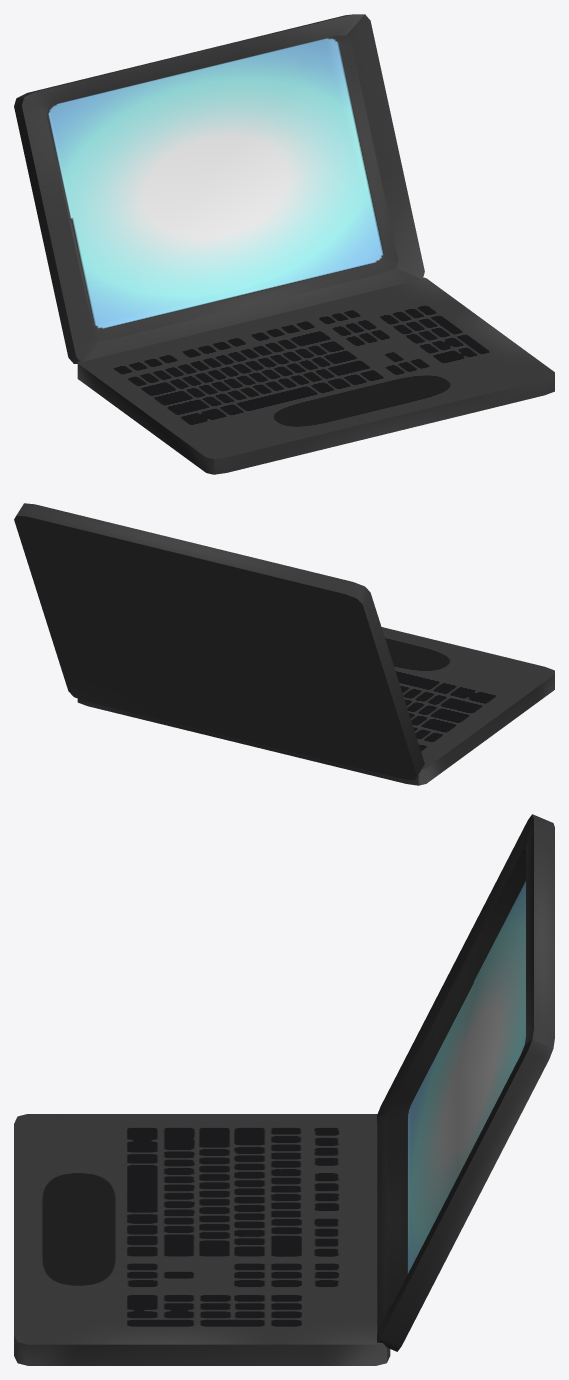
File: Laptop_New.fbx
The picture shows the model from 3 angles, top to bottom: view 1: azimuth 30°, elevation 25°; view 2: azimuth 150°, elevation 25°; view 3: azimuth 270°, elevation 25°; orthographic projection. The views are drawn at different scales.
Parts seen in each view (by area): view 1: Box004; view 2: Box004; view 3: Box004.
Part boxes in pixels (<box>): Box004: <box>14,14,554,474</box>; Box004: <box>14,503,554,785</box>; Box004: <box>14,814,554,1365</box>.
Bounding box in the file's own units: 38.71 × 25.52 × 38.34.
